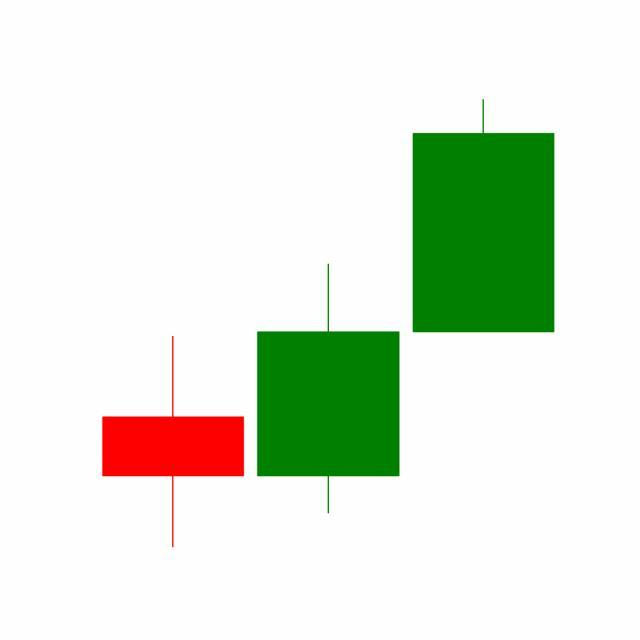Marubozu: (406, 96, 562, 335)
